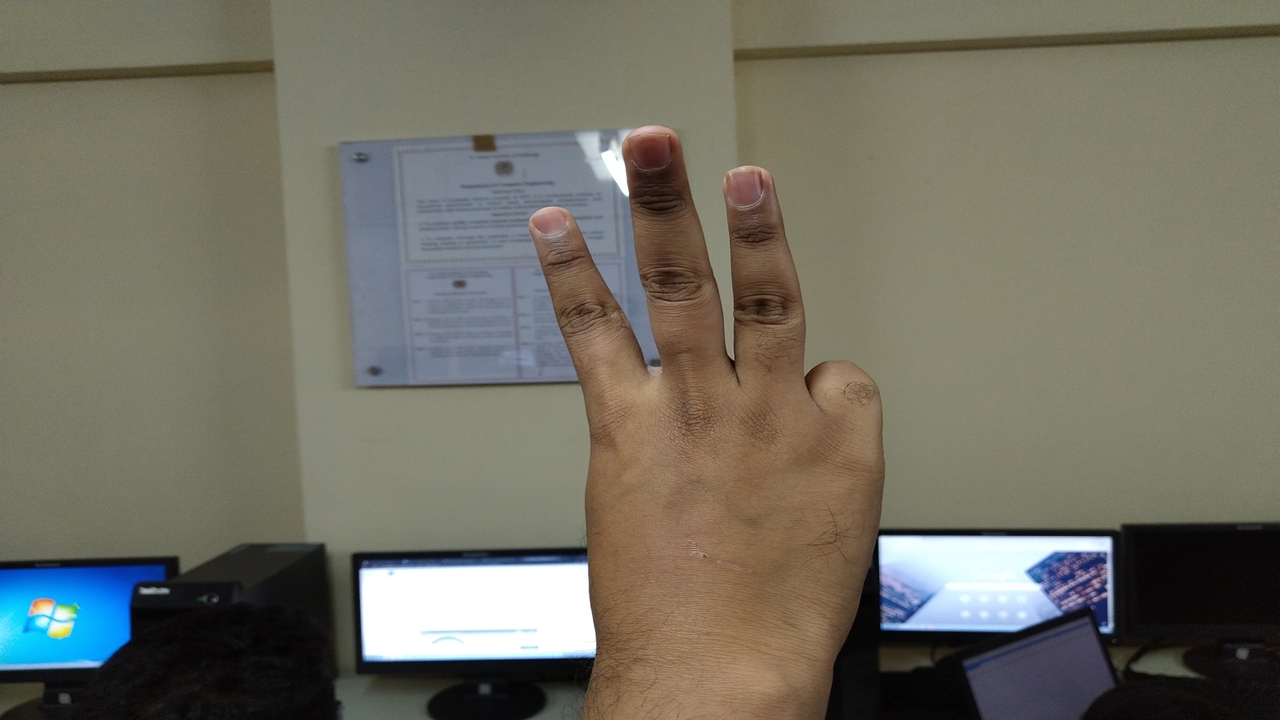fingertip: (620, 122, 688, 184), (718, 158, 784, 216), (518, 200, 586, 250)
